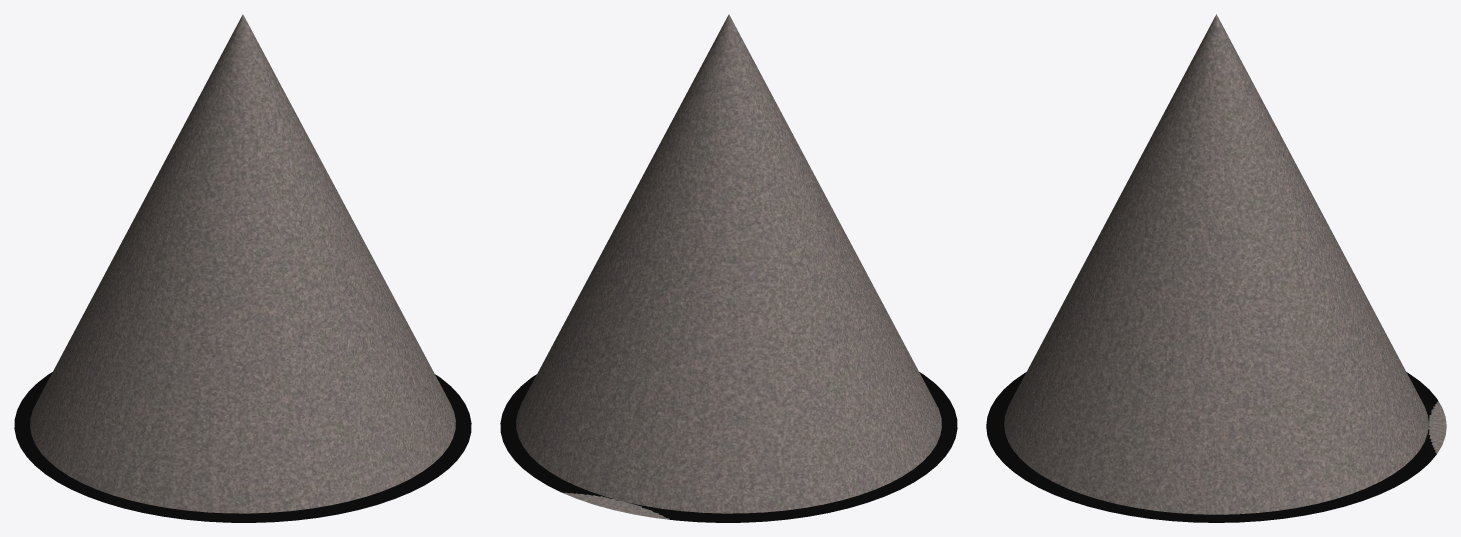
Rendered from Single_Spike.fbx.
3 renders of one model, left to right at view 1: azimuth 30°, elevation 25°; view 2: azimuth 150°, elevation 25°; view 3: azimuth 270°, elevation 25°, orthographic.
Visible parts, largest first — view 1: Side_Spikes, Side_Holes; view 2: Side_Spikes, Side_Holes; view 3: Side_Spikes, Side_Holes.
Boxes of the visible parts, <box> form: Side_Spikes: <box>30,14,455,513</box>; Side_Holes: <box>14,372,471,522</box>; Side_Spikes: <box>516,14,941,513</box>; Side_Holes: <box>500,372,957,522</box>; Side_Spikes: <box>1004,14,1428,514</box>; Side_Holes: <box>986,372,1446,522</box>.
Bounding box in the file's own units: 28.36 × 28.24 × 28.59.
Materials: 1 (1 with a texture image).
